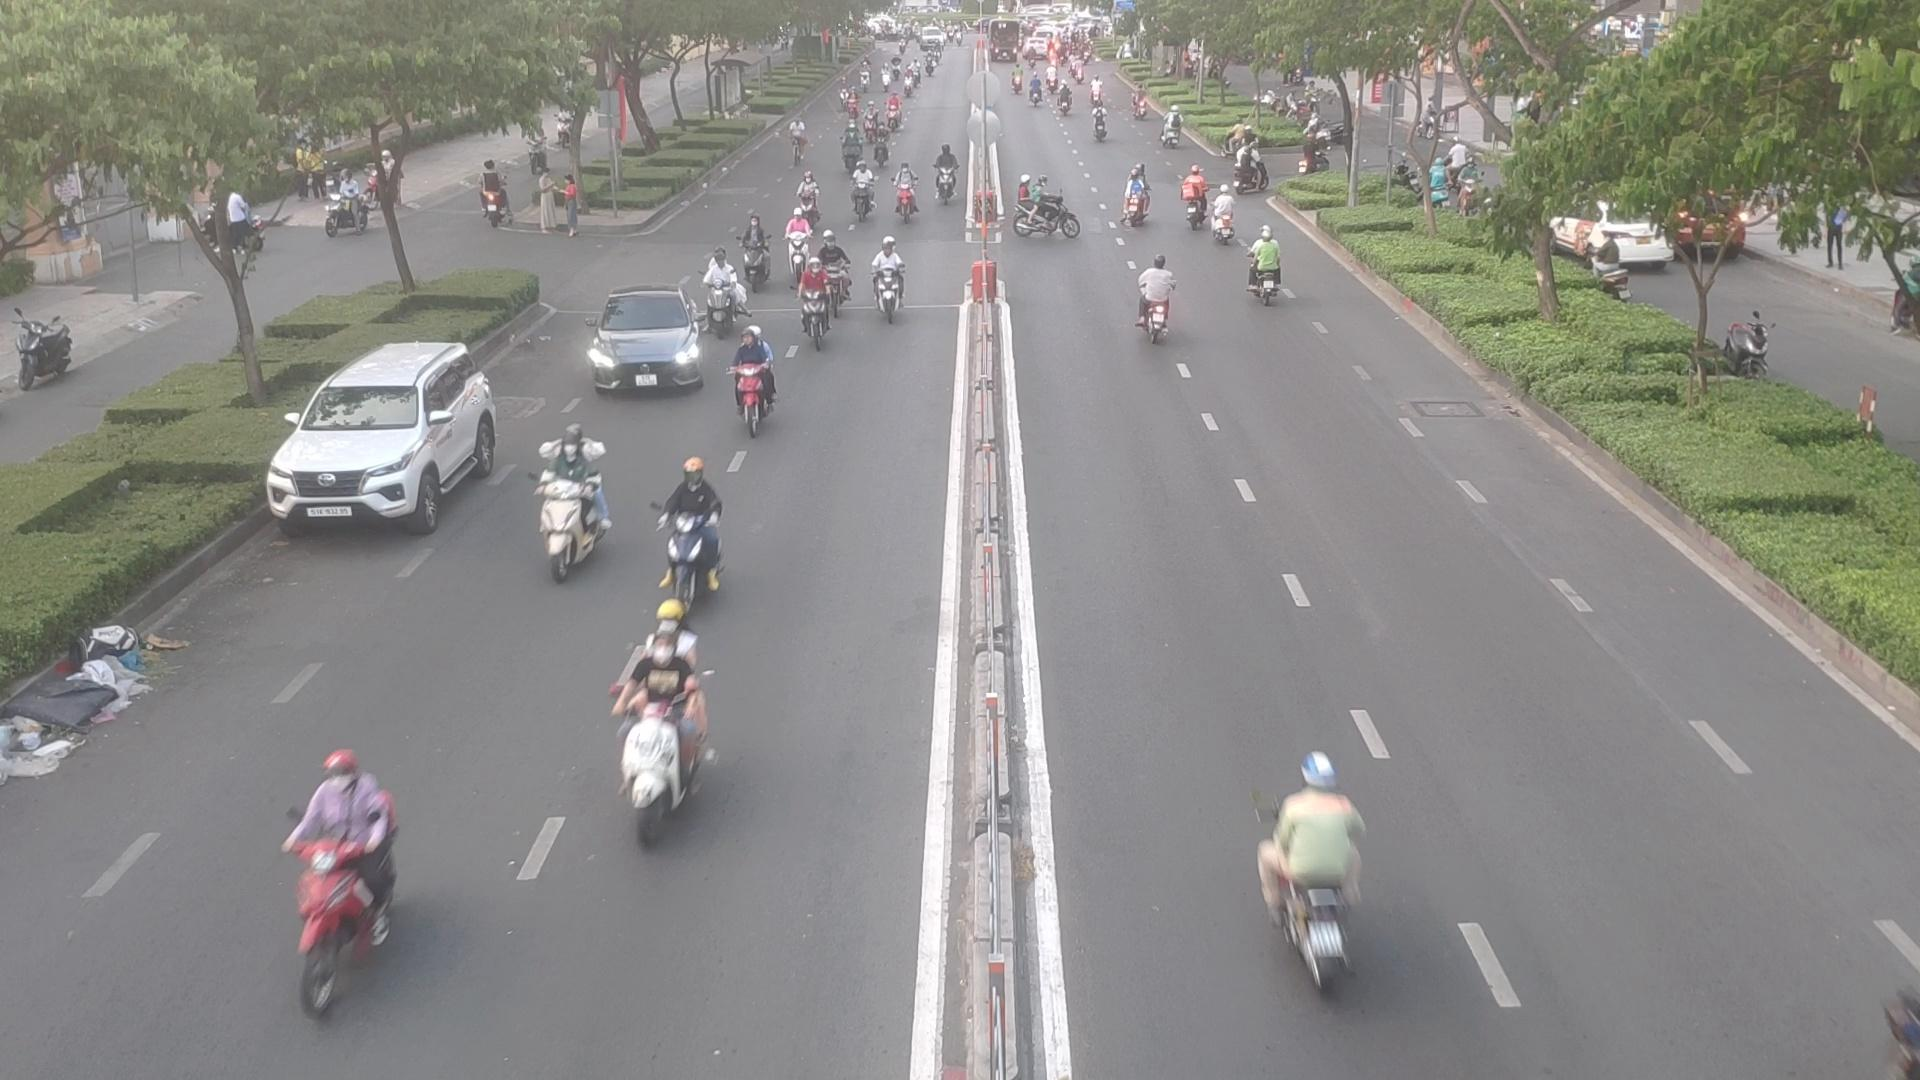car: (270, 342, 514, 534), (582, 291, 707, 397)
motorbike: (262, 752, 402, 1006), (1244, 775, 1374, 998), (611, 640, 712, 843), (524, 433, 607, 575), (650, 460, 724, 593), (720, 322, 781, 431), (1131, 257, 1183, 342), (698, 255, 752, 332), (1014, 189, 1083, 249), (864, 241, 910, 322), (1244, 232, 1295, 302), (796, 258, 832, 357), (818, 233, 853, 318), (735, 215, 771, 289), (786, 214, 822, 270), (887, 166, 919, 225), (1124, 173, 1158, 227), (1183, 167, 1205, 232), (796, 173, 827, 219), (839, 119, 865, 166), (936, 142, 955, 208), (1213, 182, 1233, 243), (872, 123, 893, 170), (852, 164, 870, 218)
